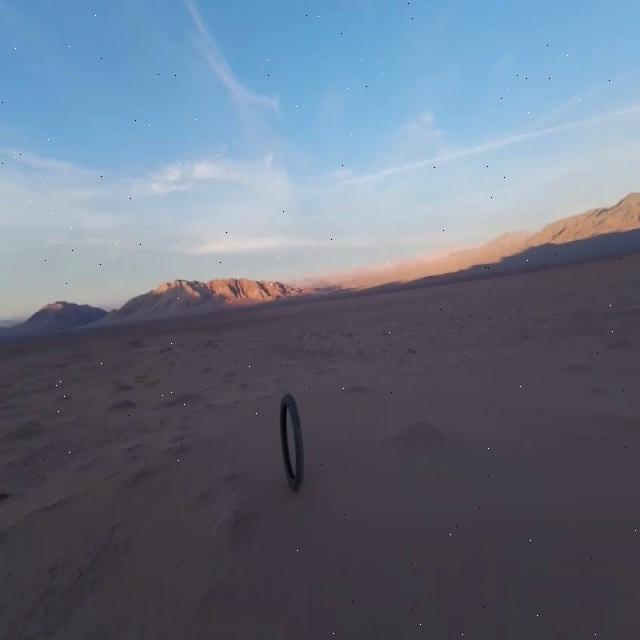Tire: (280, 394, 303, 490)
